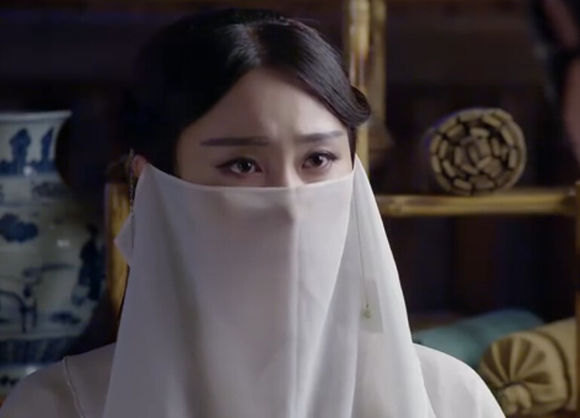face_mask: (179, 77, 353, 294)
